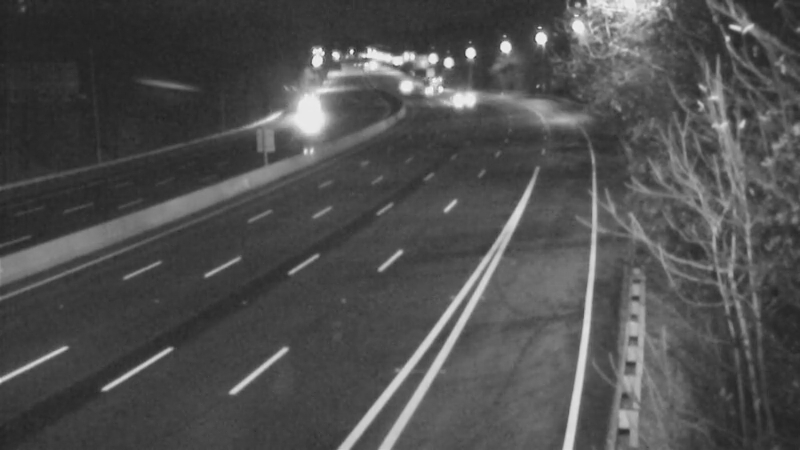vehicle: (380, 60, 430, 110), (405, 59, 455, 109), (431, 72, 481, 122), (282, 83, 332, 133)
